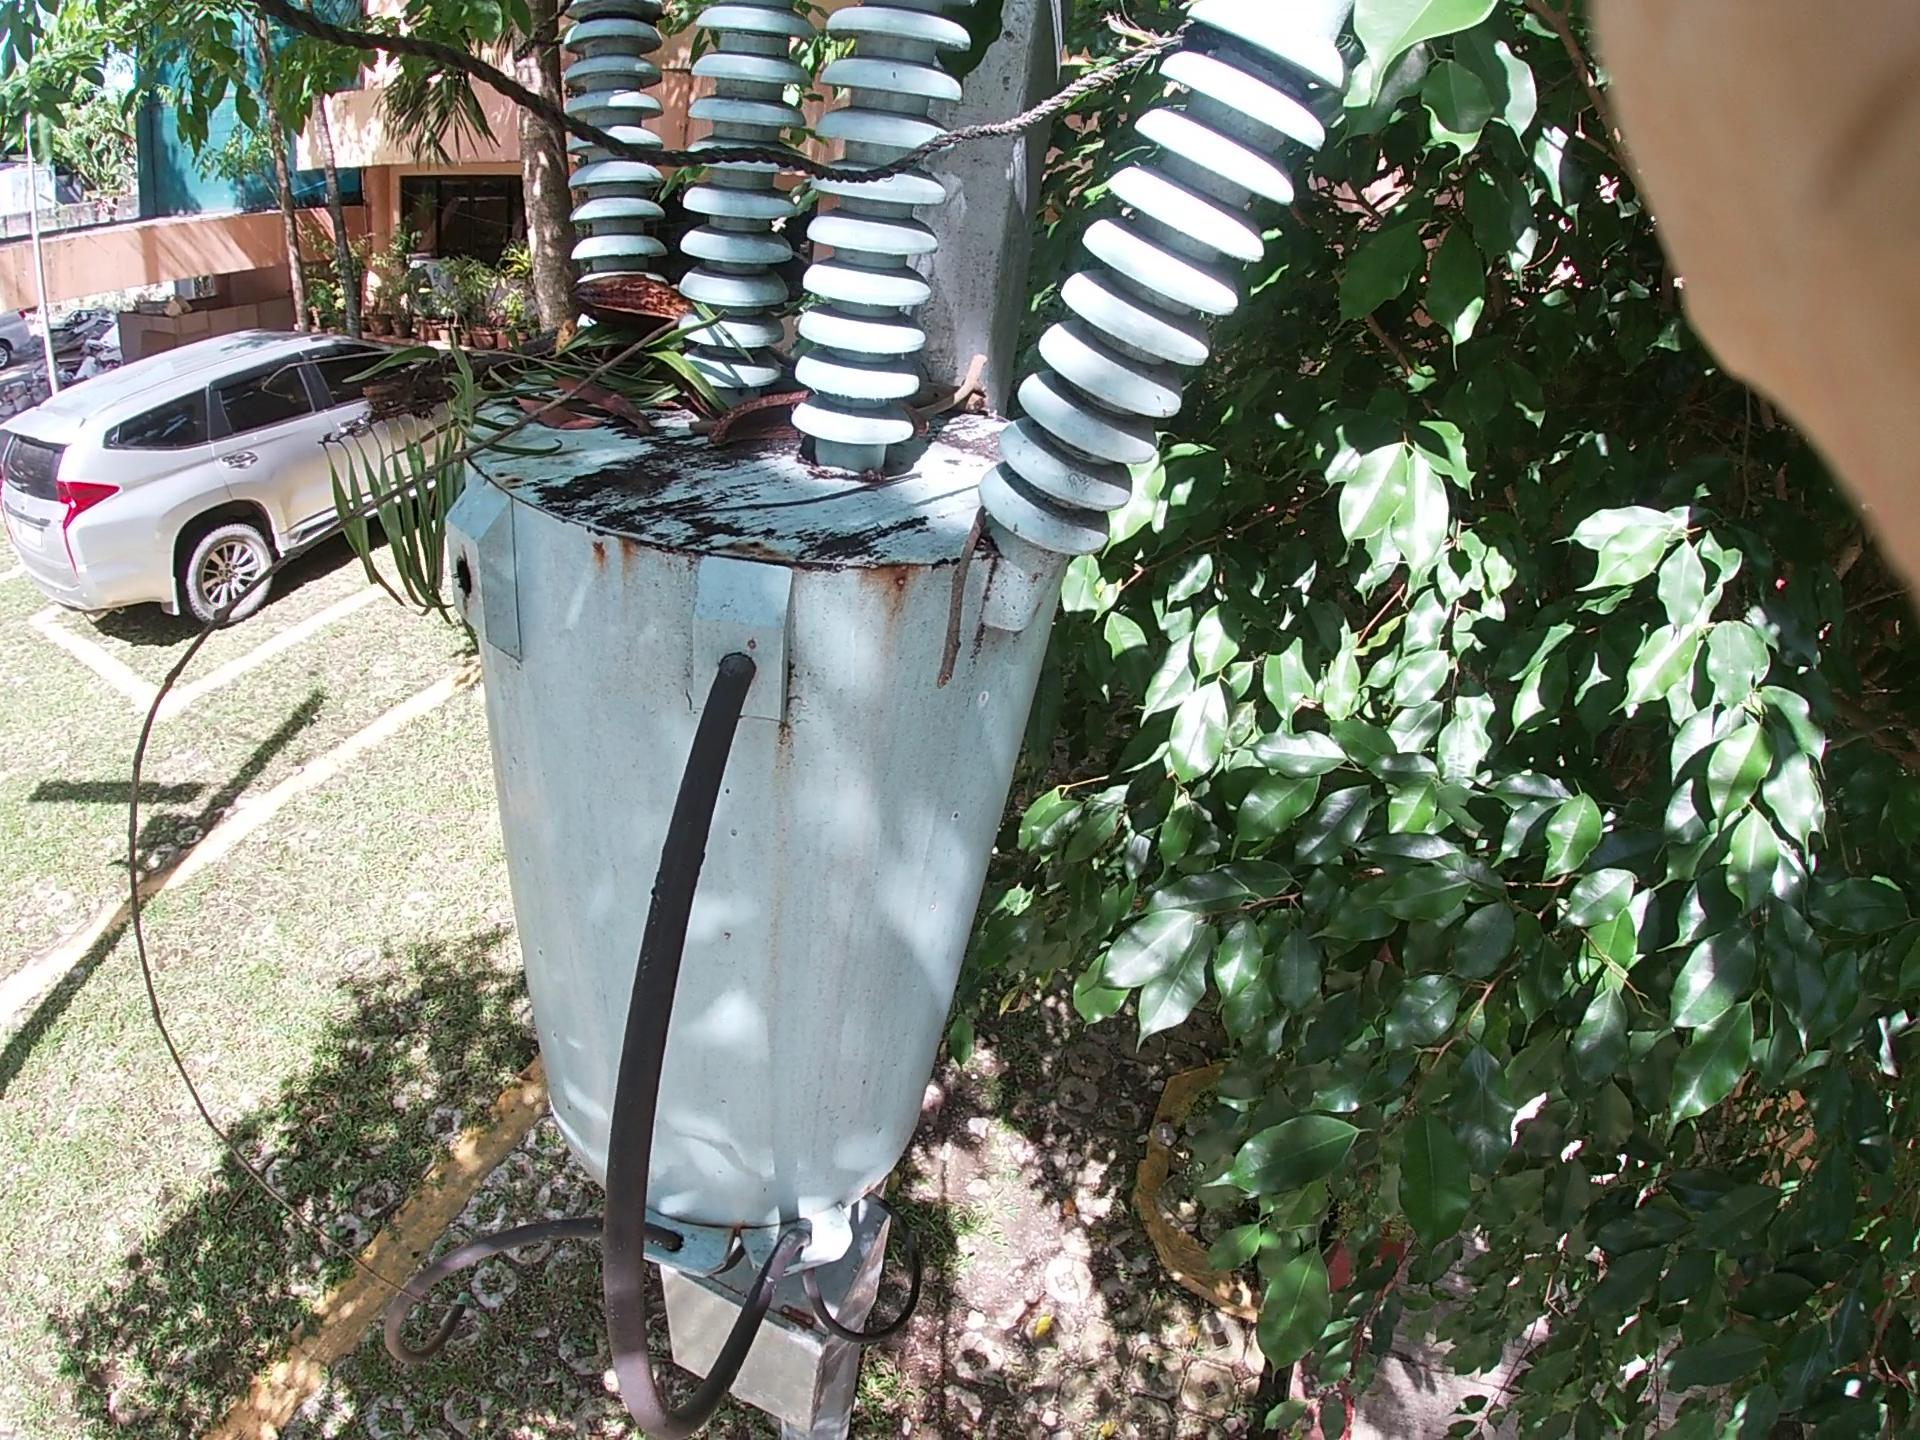branch with leaves: (311, 172, 732, 611)
leaf: (514, 360, 692, 489)
mahogany fruit: (680, 337, 828, 476), (556, 228, 703, 360)
tree branch: (215, 231, 821, 1156), (721, 318, 992, 476), (943, 417, 1057, 712)
